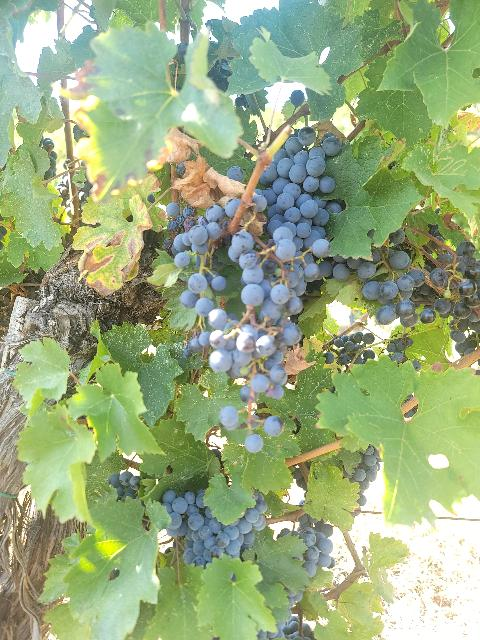grapes: (189, 309, 288, 452), (260, 126, 344, 260), (229, 225, 306, 346), (162, 489, 268, 568), (430, 242, 480, 355)
